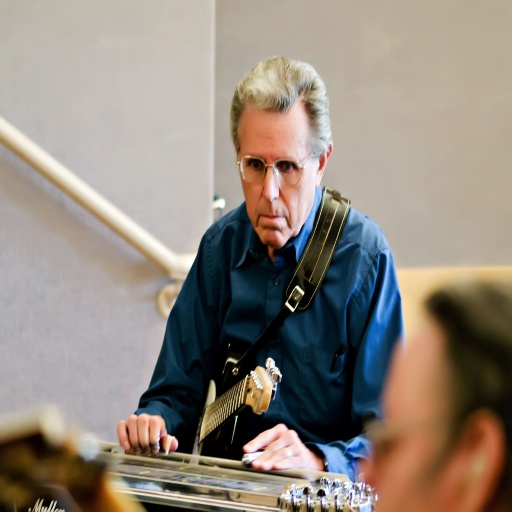hand: (241, 434, 318, 480), (115, 412, 178, 453)
